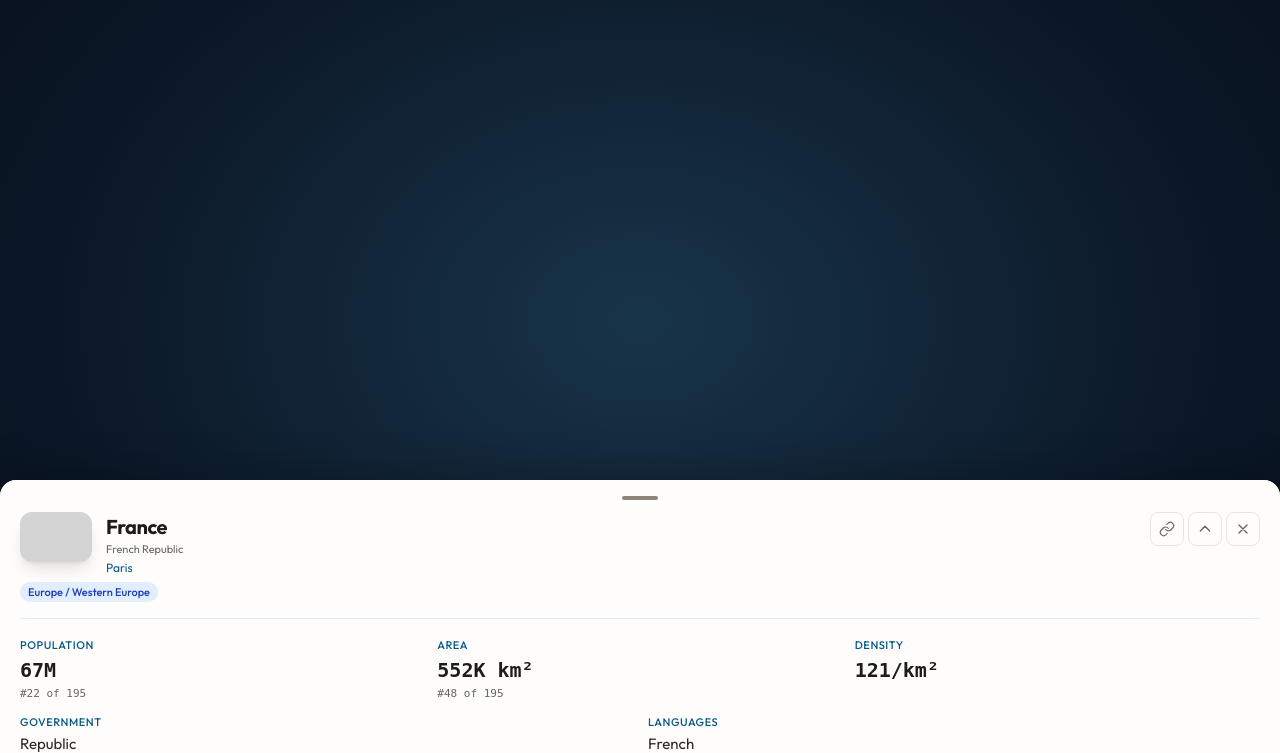
Test case: SingleCountryPanel — mobile sheet grabber (G1) › mobile: grabber is a pointer-only affordance wired to the same expand toggle as the chevron
This screenshot has width=1280, height=753.
expect the text "Timezones" is not shown: met
Step 1. Click the button with test id "sheet-grabber" → (640, 498), box [20,488,1260,508]
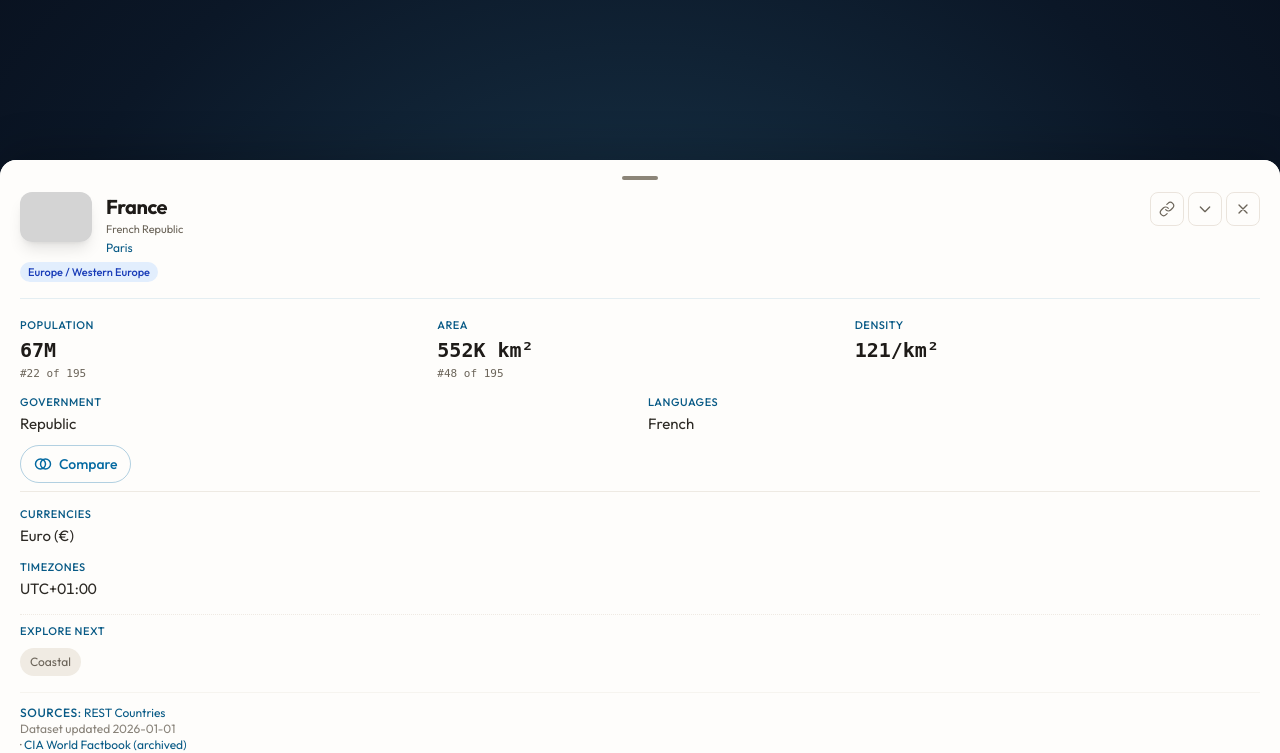
expect the text "Timezones" is shown: met, box [20,560,86,574]
expect the button named "Collapse panel" is expanded: met, box [1188,192,1222,226]
